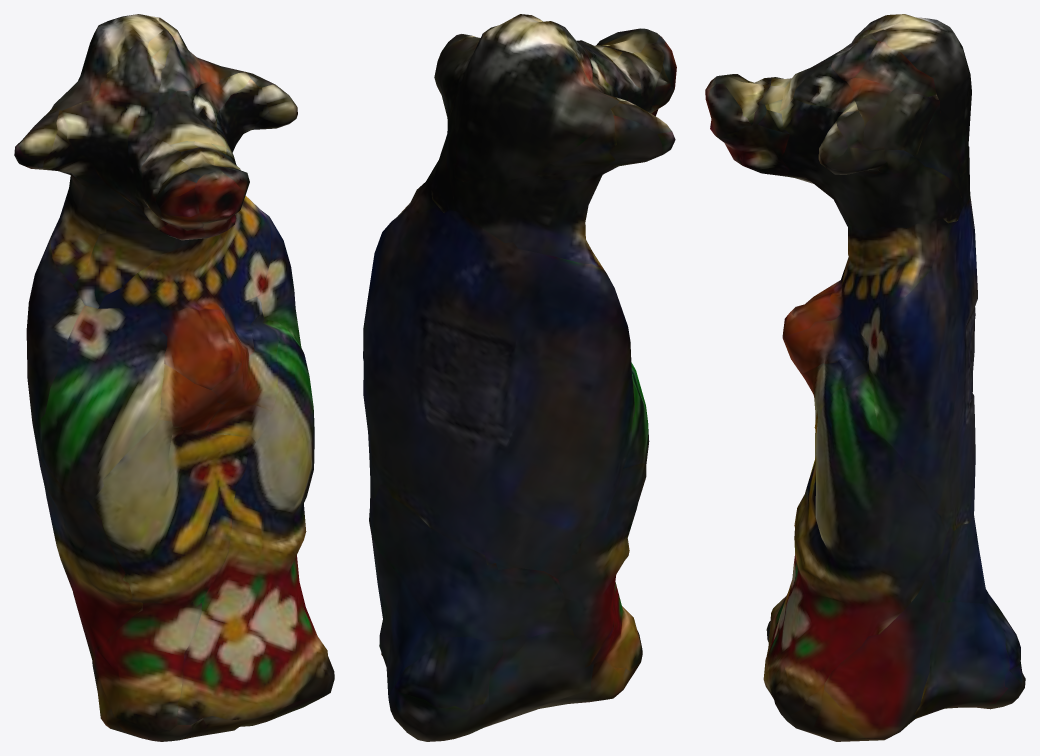
The model's file is hall.glb.
3 views of the same model, side by side, from view 1: azimuth 30°, elevation 25°; view 2: azimuth 150°, elevation 25°; view 3: azimuth 270°, elevation 25° (orthographic). The views are drawn at different scales.
Size of the model in its own units: 0.2015 by 0.454 by 0.1979.
Materials: 1 (1 with a texture image).
